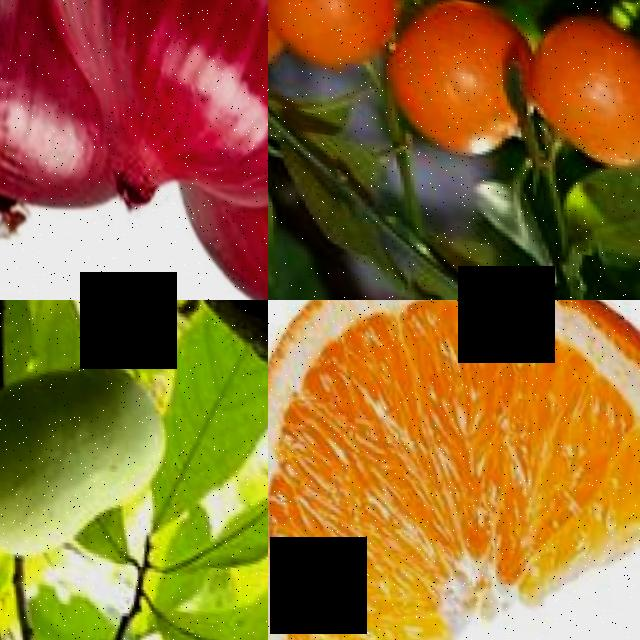mango: (0, 342, 171, 571)
onion: (13, 0, 268, 197)
orange: (268, 300, 640, 640), (372, 0, 532, 162), (516, 0, 640, 171), (268, 0, 379, 74)
